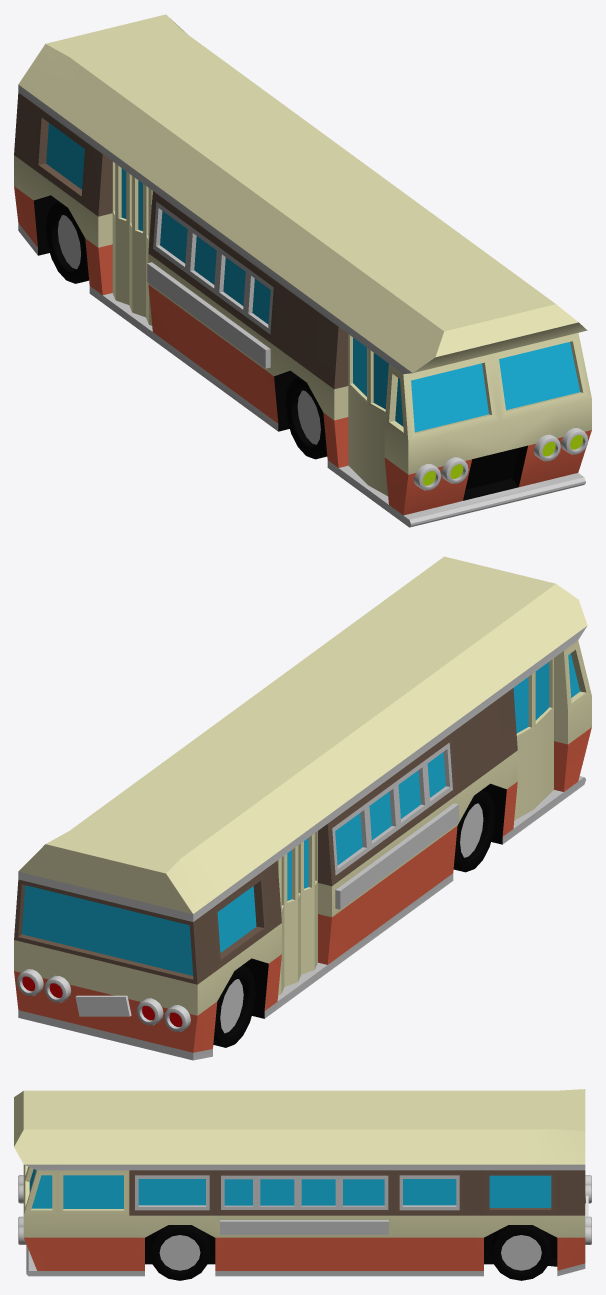
Rendered from bus.fbx.
3 views of the same model, one above another, from view 1: azimuth 30°, elevation 25°; view 2: azimuth 150°, elevation 25°; view 3: azimuth 270°, elevation 25° (orthographic). The views are drawn at different scales.
Parts seen in each view (by area): view 1: Cylinder.001; view 2: Cylinder.001; view 3: Cylinder.001.
Boxes of the visible parts, left/top/right/bottom form: Cylinder.001: left=14, top=14, right=591, bottom=527; Cylinder.001: left=14, top=556, right=591, bottom=1060; Cylinder.001: left=14, top=1089, right=591, bottom=1280.
Size of the model in its own units: 299 by 294 by 1088.
